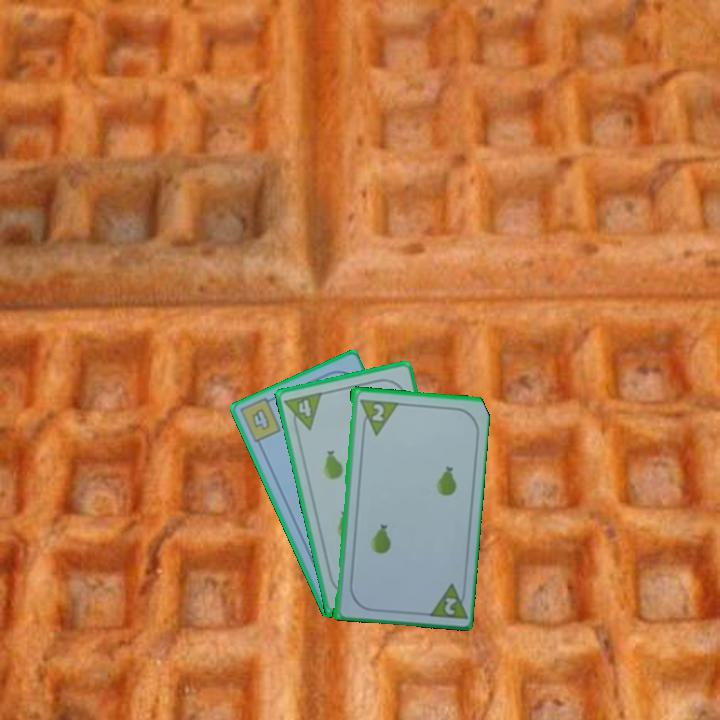2p: (356, 395, 399, 437), (440, 593, 459, 618)
4b: (238, 393, 284, 446)
4p: (281, 388, 325, 435)
